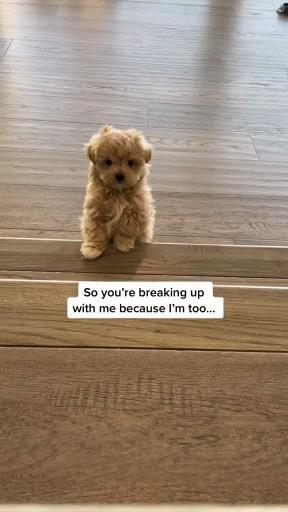puppy-dog: (79, 123, 160, 259)
